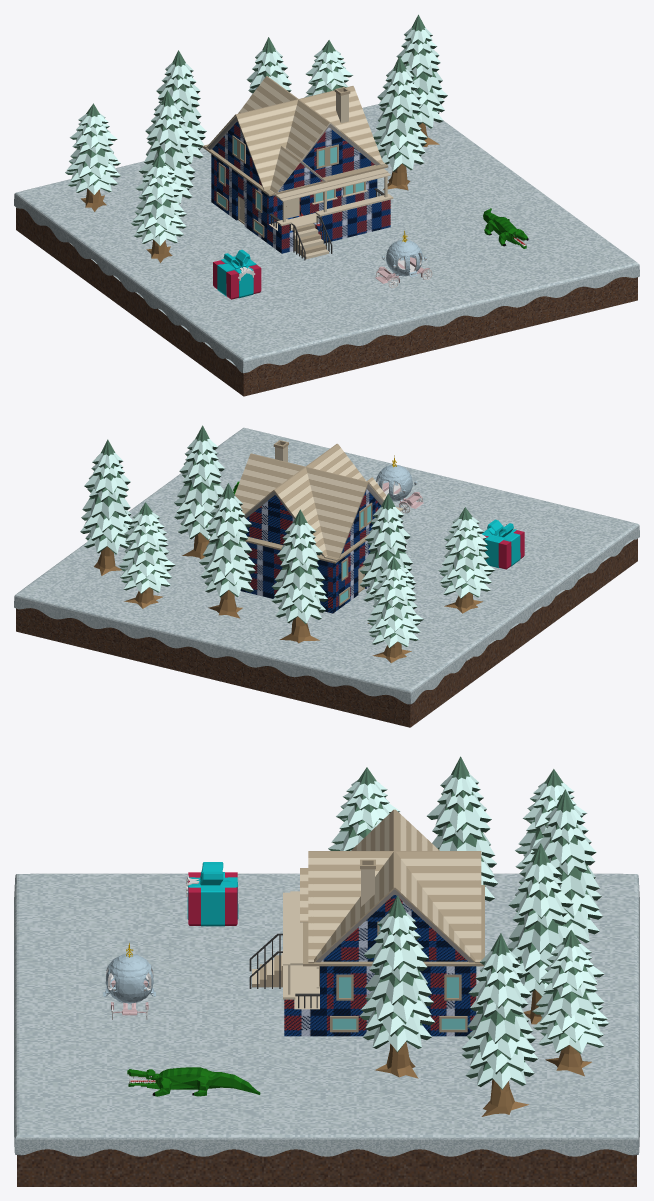
3 renders of one model, top to bottom at view 1: azimuth 30°, elevation 25°; view 2: azimuth 150°, elevation 25°; view 3: azimuth 270°, elevation 25°, orthographic. The views are drawn at different scales.
Parts seen in each view (by area): view 1: Cube.003, Cube.171, OBJRANDOM_GIANT_PRESENT, VEHICLES_FANTASY_CARRIAGE, ANIMAL_COCODRILO; view 2: Cube.003, Cube.171, OBJRANDOM_GIANT_PRESENT, VEHICLES_FANTASY_CARRIAGE; view 3: Cube.003, Cube.171, OBJRANDOM_GIANT_PRESENT, ANIMAL_COCODRILO, VEHICLES_FANTASY_CARRIAGE.
Boxes of the visible parts, <box> form: Cube.003: <box>14,14,639,396</box>; Cube.171: <box>202,76,393,260</box>; OBJRANDOM_GIANT_PRESENT: <box>213,249,261,299</box>; VEHICLES_FANTASY_CARRIAGE: <box>375,230,432,288</box>; ANIMAL_COCODRILO: <box>483,208,528,248</box>; Cube.003: <box>14,425,639,727</box>; Cube.171: <box>234,440,405,613</box>; OBJRANDOM_GIANT_PRESENT: <box>482,519,524,569</box>; VEHICLES_FANTASY_CARRIAGE: <box>376,455,423,513</box>; Cube.003: <box>14,756,639,1186</box>; Cube.171: <box>249,809,484,1036</box>; OBJRANDOM_GIANT_PRESENT: <box>186,862,238,926</box>; ANIMAL_COCODRILO: <box>127,1067,260,1096</box>; VEHICLES_FANTASY_CARRIAGE: <box>103,943,155,1019</box>.
Bounding box in the file's own units: 4040 × 1692 × 4040.
27 materials, 4 textured.
